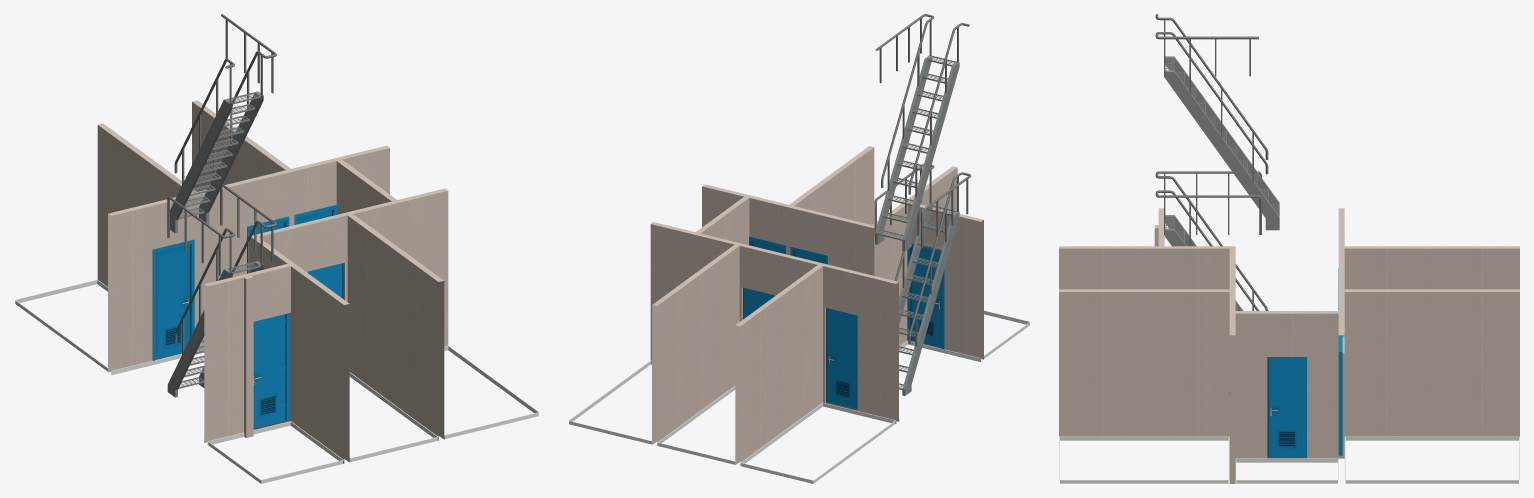
File: Stairs_and_Rooms.fbx
3 views of the same model, side by side, from view 1: azimuth 30°, elevation 25°; view 2: azimuth 150°, elevation 25°; view 3: azimuth 270°, elevation 25° (orthographic). The views are drawn at different scales.
Visible parts, largest first — view 1: Rooms_Walls, Skirting_S03_mid, Door_Complete_005, Door_Complete_011, Latelares003, Barandales001, Barandales003, Latelares001, Door_Frame_011, Escalon003, Door_Complete_006; view 2: Rooms_Walls, Skirting_S03_mid, Latelares003, Door_Complete_011, Latelares001, Barandales003, Barandales001, Door_Complete_005, Escalon003, Escalon001, Door_Frame_005, Door_Complete_010; view 3: Rooms_Walls, Skirting_S03_mid, Door_Complete_008, Latelares003, Barandales003, Barandales001, Latelares001, Door_Frame_009.
Boxes of the visible parts, bbox=[...] form: Rooms_Walls: bbox=[97, 100, 448, 463]; Skirting_S03_mid: bbox=[15, 279, 539, 483]; Door_Complete_005: bbox=[253, 314, 285, 428]; Door_Complete_011: bbox=[156, 245, 190, 359]; Latelares003: bbox=[170, 91, 263, 233]; Barandales001: bbox=[167, 184, 276, 354]; Barandales003: bbox=[174, 14, 276, 184]; Latelares001: bbox=[167, 261, 263, 397]; Door_Frame_011: bbox=[152, 239, 194, 360]; Escalon003: bbox=[178, 92, 260, 219]; Door_Complete_006: bbox=[308, 263, 342, 297]; Rooms_Walls: bbox=[650, 146, 983, 465]; Skirting_S03_mid: bbox=[568, 310, 1030, 483]; Latelares003: bbox=[875, 55, 959, 251]; Door_Complete_011: bbox=[827, 308, 857, 409]; Latelares001: bbox=[899, 207, 959, 395]; Barandales003: bbox=[875, 14, 969, 197]; Barandales001: bbox=[874, 163, 971, 346]; Door_Complete_005: bbox=[911, 247, 941, 347]; Escalon003: bbox=[877, 55, 955, 240]; Escalon001: bbox=[899, 205, 956, 389]; Door_Frame_005: bbox=[907, 243, 944, 349]; Door_Complete_010: bbox=[744, 288, 774, 318]; Rooms_Walls: bbox=[1059, 208, 1519, 483]; Skirting_S03_mid: bbox=[1059, 436, 1519, 483]; Door_Complete_008: bbox=[1268, 357, 1306, 456]; Latelares003: bbox=[1164, 56, 1279, 230]; Barandales003: bbox=[1155, 14, 1268, 181]; Barandales001: bbox=[1155, 171, 1268, 310]; Latelares001: bbox=[1164, 215, 1243, 310]; Door_Frame_009: bbox=[1338, 335, 1342, 455].
Size of the model in its own units: 5.73 by 7.37 by 8.77.
